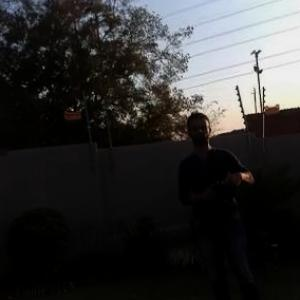follow: (174, 105, 268, 299)
